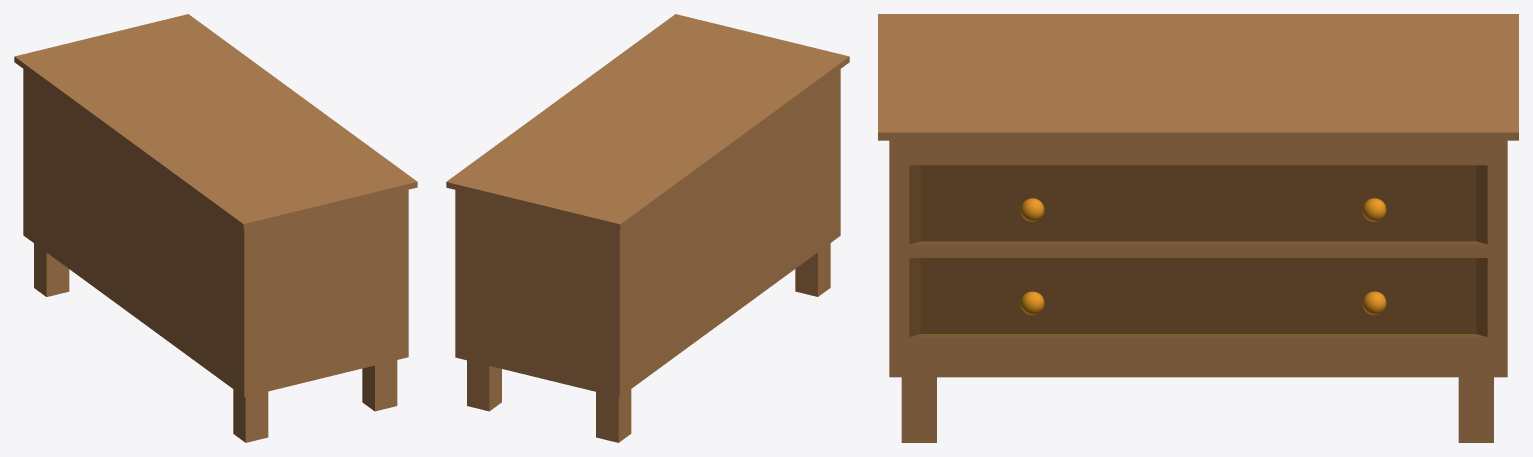
Rendered from Drawers.glb.
The picture shows the model from 3 angles, left to right: view 1: azimuth 30°, elevation 25°; view 2: azimuth 150°, elevation 25°; view 3: azimuth 270°, elevation 25°; orthographic projection. The views are drawn at different scales.
Parts seen in each view (by area): view 1: Cube, Cube.005, Cube.002, Cube.001, Cube.003; view 2: Cube, Cube.005, Cube.003, Cube.004, Cube.002; view 3: Cube.005, Cube, Cube.006, Cube.007, Cube.001, Cube.004.
Boxes of the visible parts, box(x1,y1,x2,y2) form: Cube: box(23, 69, 408, 397); Cube.005: box(14, 14, 417, 229); Cube.002: box(233, 389, 268, 442); Cube.001: box(362, 360, 397, 411); Cube.003: box(34, 243, 69, 296); Cube: box(455, 69, 840, 397); Cube.005: box(446, 14, 849, 229); Cube.003: box(596, 389, 631, 442); Cube.004: box(467, 360, 501, 411); Cube.002: box(795, 243, 830, 296); Cube.005: box(878, 14, 1518, 140); Cube: box(889, 140, 1507, 377); Cube.006: box(909, 163, 1487, 244); Cube.007: box(909, 256, 1487, 336); Cube.001: box(901, 377, 936, 442); Cube.004: box(1458, 377, 1493, 442).
Bounding box in the file's own units: 2.18 × 2.65 × 4.84.
